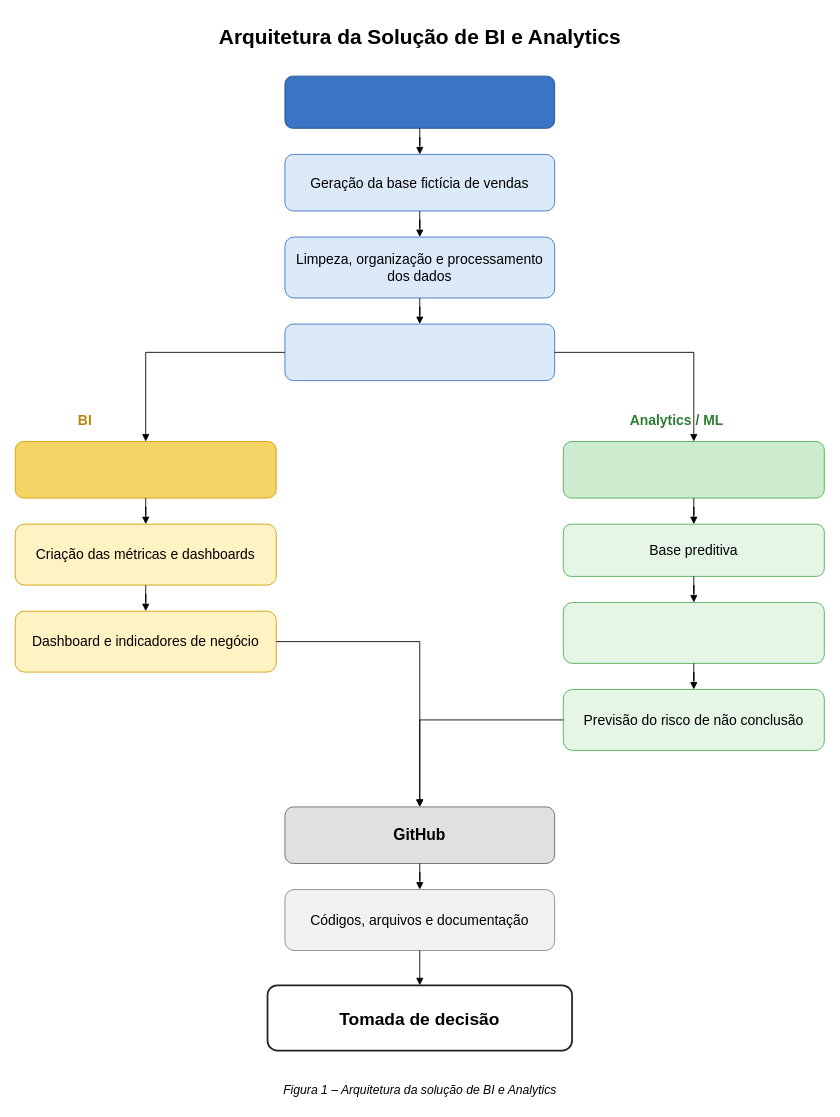
This 840x1117 diagram has some shape labels left out. The centre of each missing label's shape, as x and y in pixels:
"Criação dos arquivos CSV" belongs at pixel 419 352.
"Google Colab" belongs at pixel 693 469.
"Modelo de Regressão Logística" belongs at pixel 693 632.
"Power BI" belongs at pixel 145 469.
"Python" belongs at pixel 419 101.
